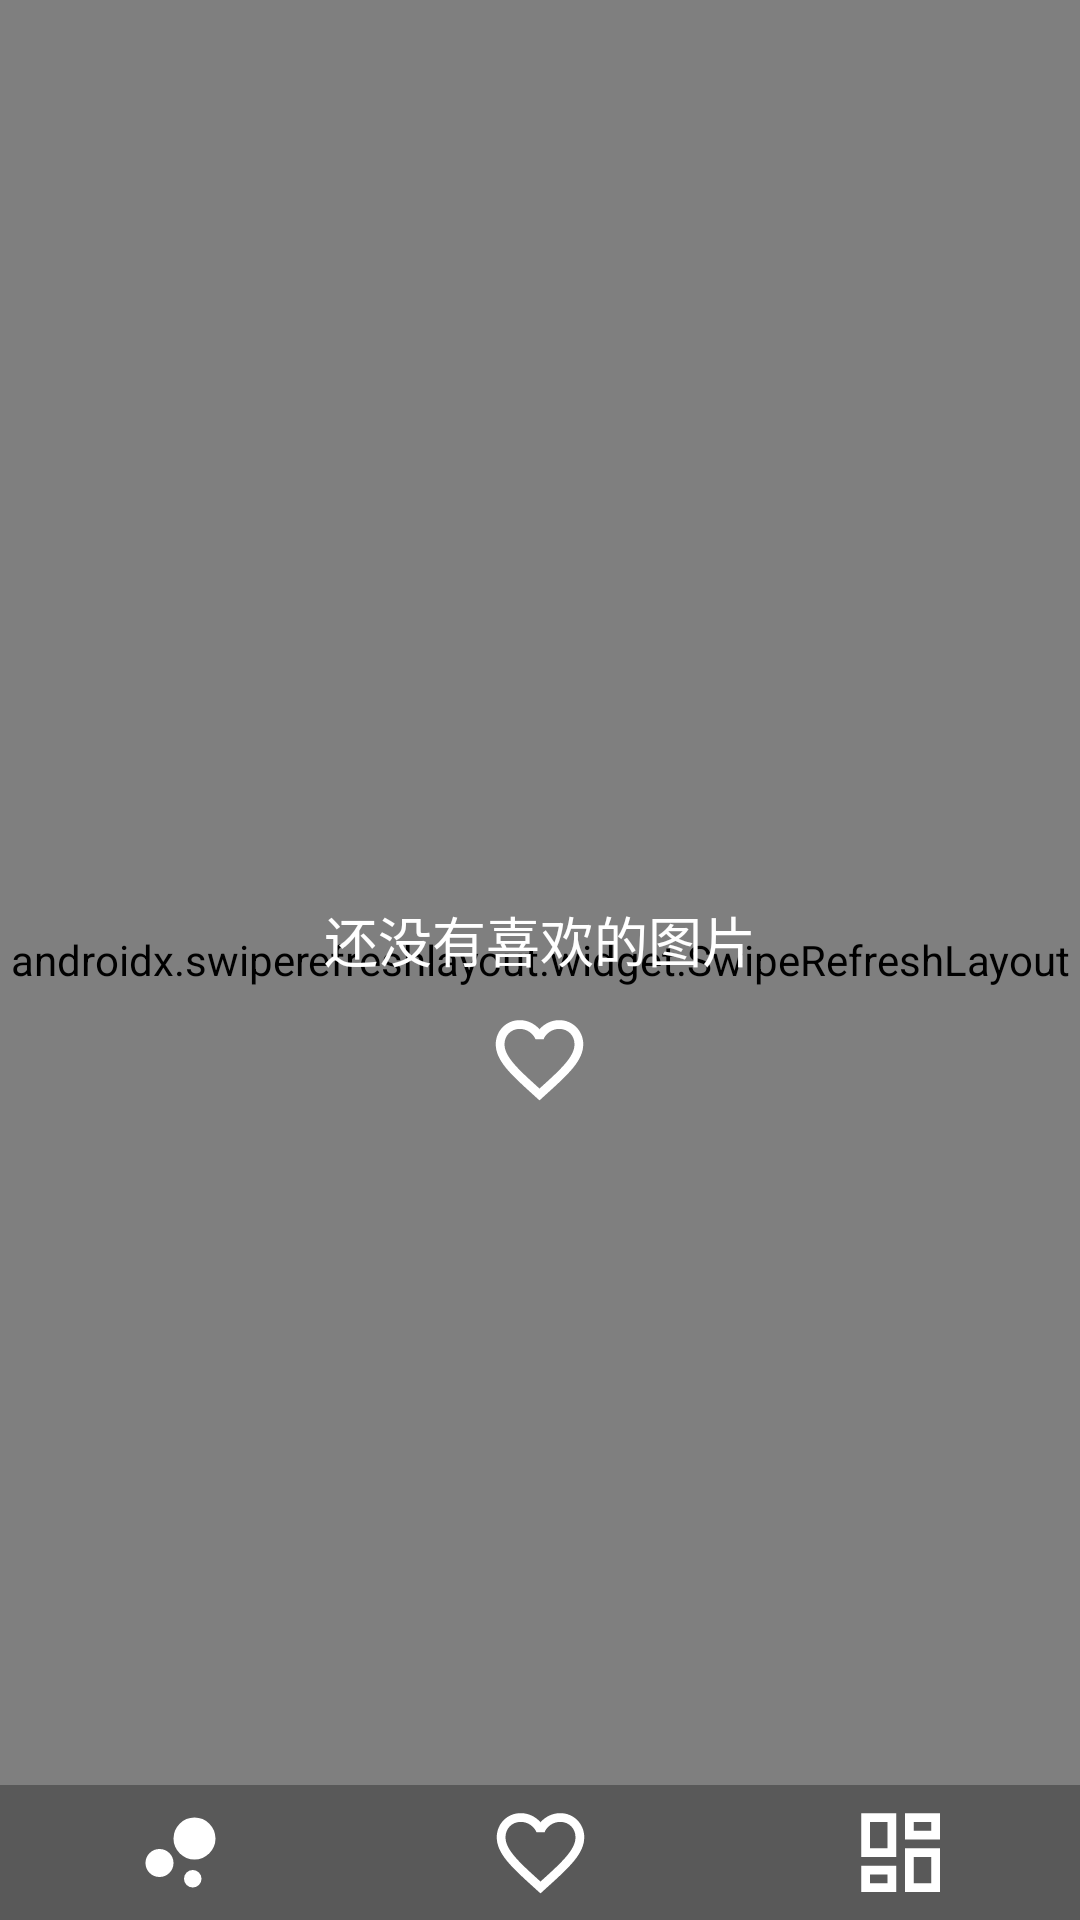

Icons on this 1080x1920 Android screen, each with the point to tap as [x,y]:
bubble chart: [180,1852]
dashboard: [900,1852]
favorite border: [539,1060], [540,1853]
